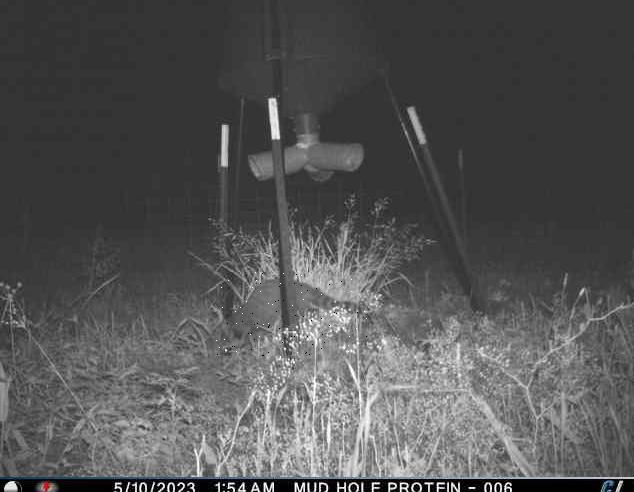Raccoon: (216, 273, 368, 358)
